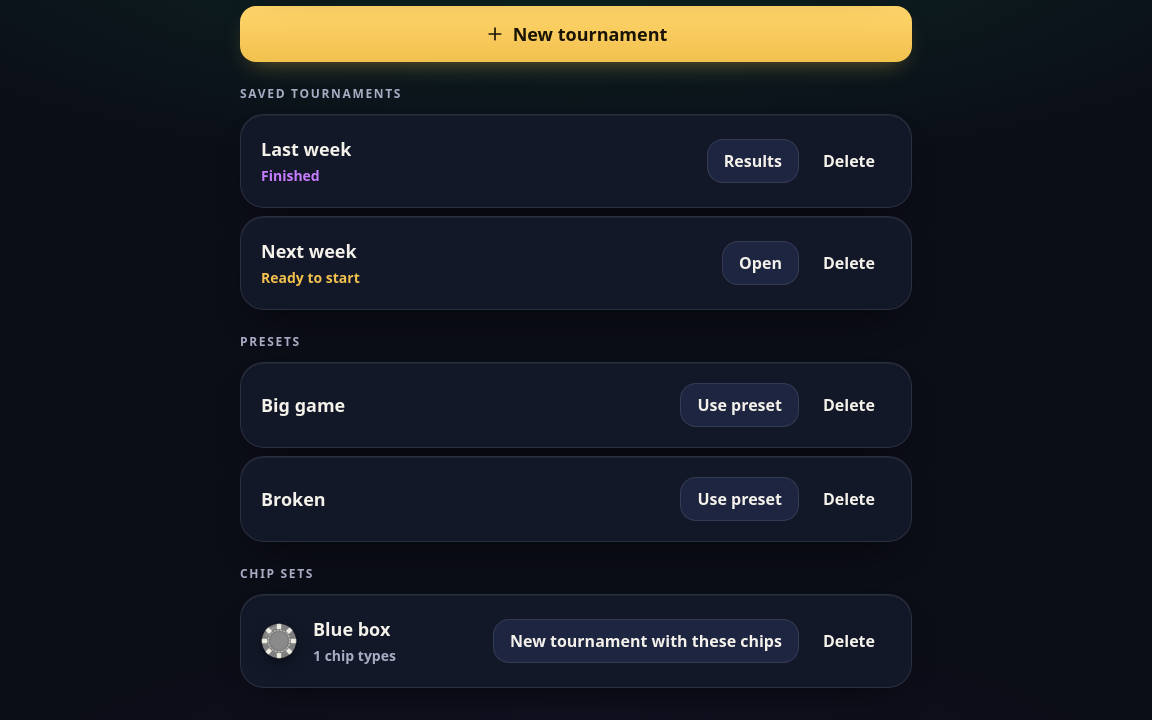
Test: home library › explains a preset it cannot use
(page scrolled)
Click the button with aria-label "Use preset: Broken" at [740, 498], box [680,476,799,520]
(page scrolled)
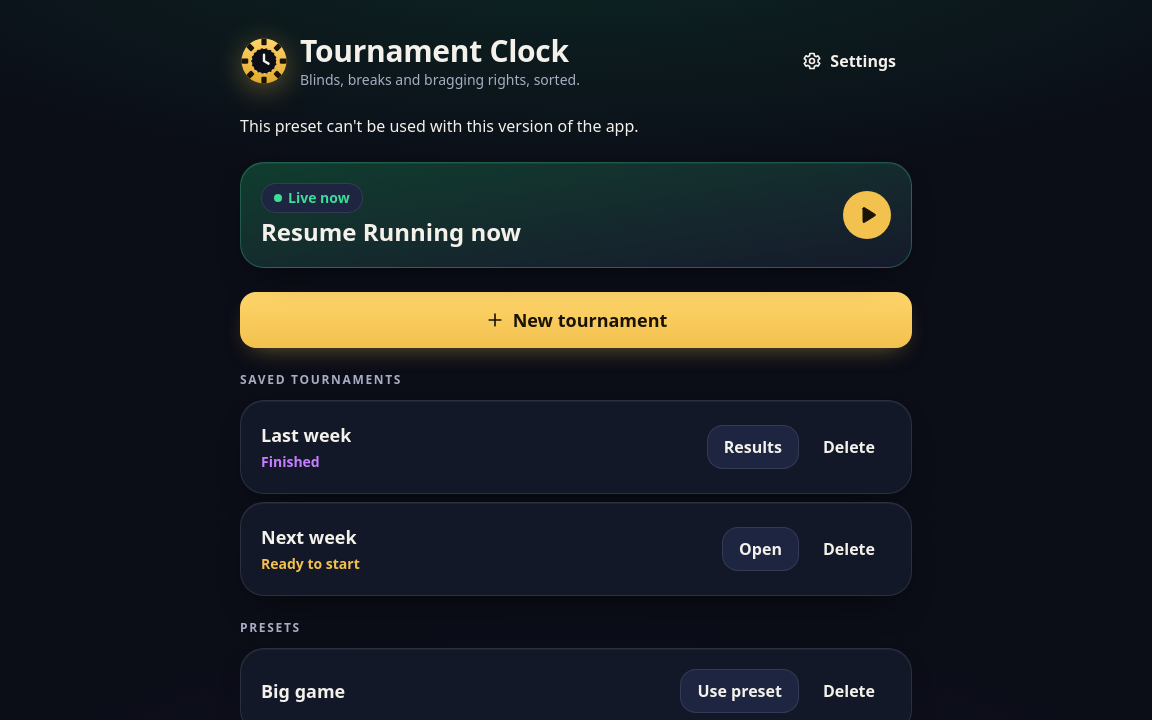
expect the text "This preset can't be used with this version of the app." is shown: met, box [240,114,639,136]
